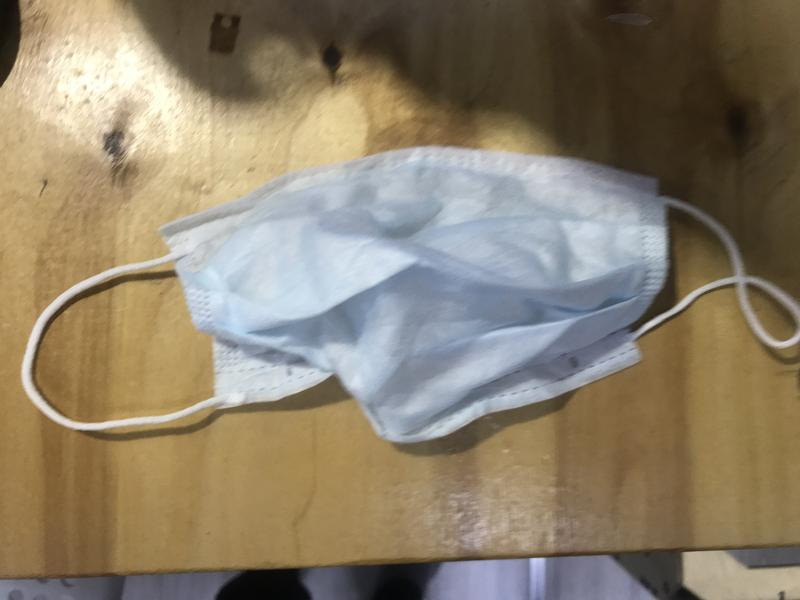medical_mask: (19, 147, 800, 445)
